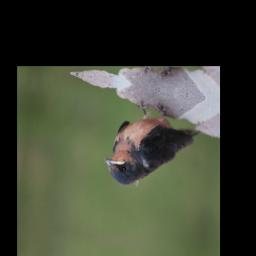Swallow: (101, 93, 203, 199)
